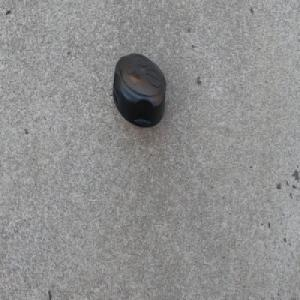FuelCap: (112, 51, 166, 131)
